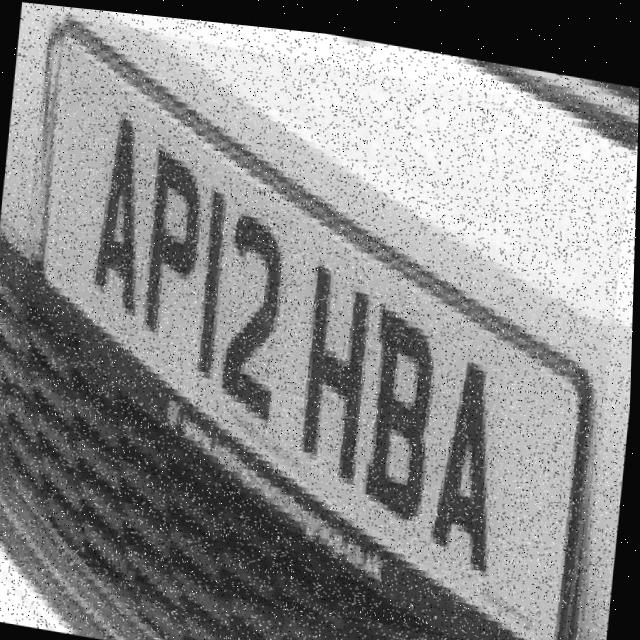LicensePlate: (0, 11, 635, 640)
